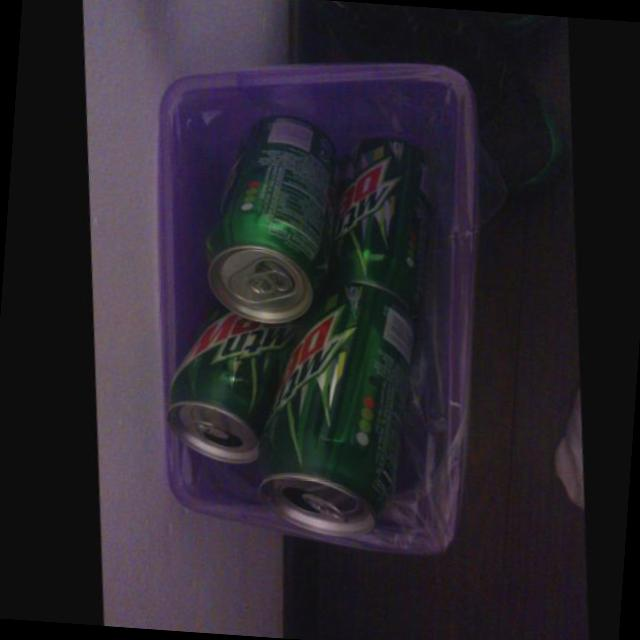nhom: (252, 279, 410, 534), (202, 112, 332, 322), (161, 307, 308, 463), (326, 136, 419, 298)
